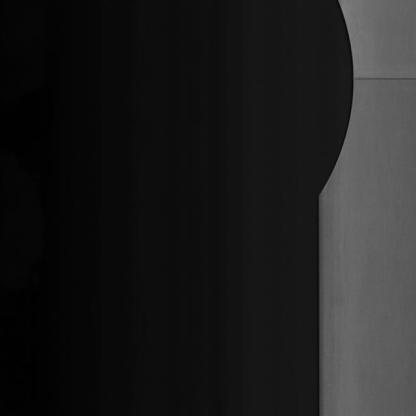crescent_gap: (298, 0, 360, 221)
welding_line: (346, 61, 415, 89)
